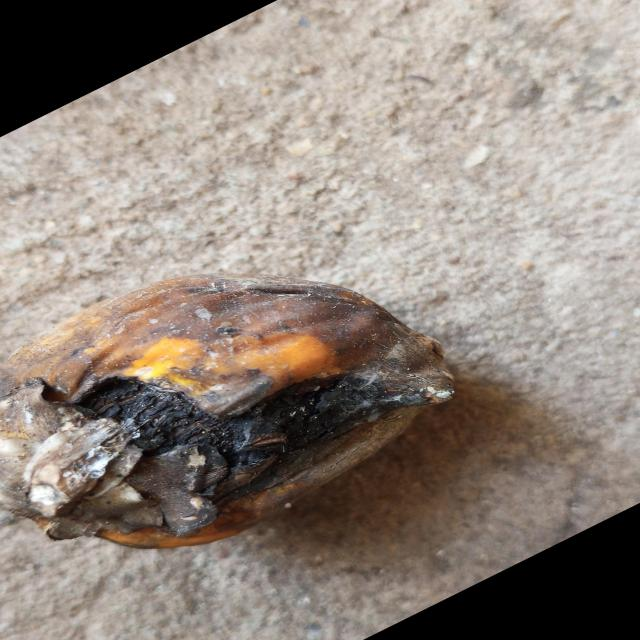damaged: (0, 276, 456, 554)
